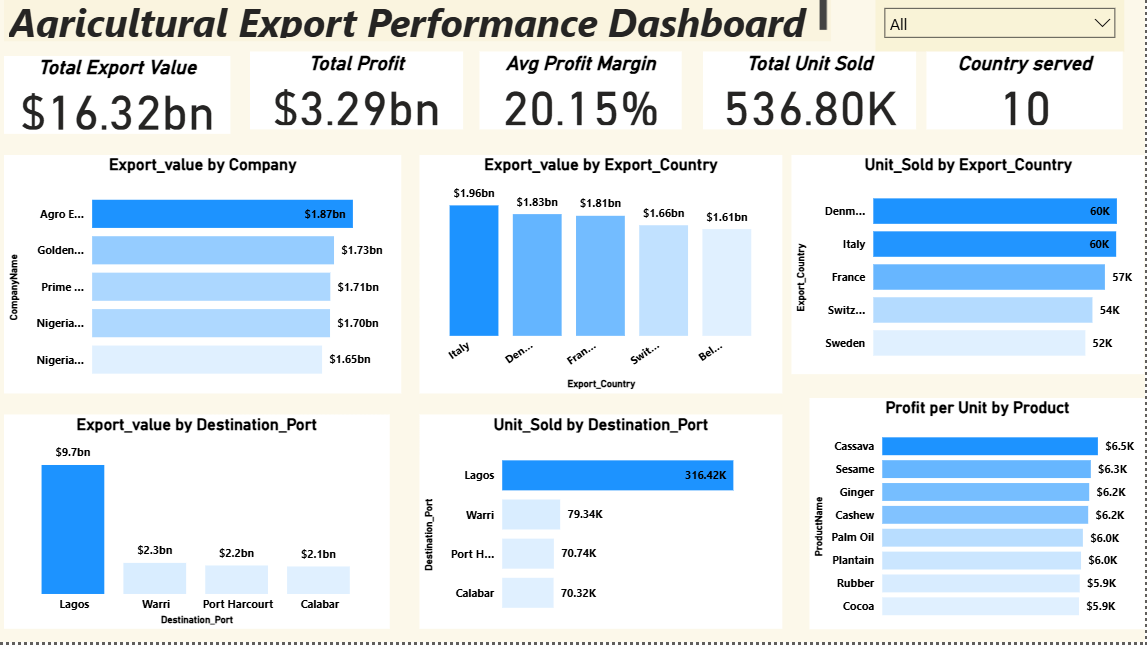

Layout of this report page (visuals, bound fields, positions):
{"tool":"powerbi","page":{"name":"Page 2","canvas":[1280,720],"ordinal":1},"visuals":[{"type":"textbox","box":[20,0,913.3,56.7],"z":0},{"type":"card","title":"Total Export Value","fields":{"Values":["Agricultural_Export_Data.Total_Export_value"]},"box":[19.9,72.9,250.1,86.1],"z":1000},{"type":"card","title":"Total Profit","fields":{"Values":["Agricultural_Export_Data.Total_Profit"]},"box":[291.5,67.9,235.2,86.1],"z":2000},{"type":"card","title":"Avg Profit Margin","fields":{"Values":["Agricultural_Export_Data.Average profit margin"]},"box":[545,67.9,223.6,86.1],"z":3000},{"type":"card","title":"Total Unit Sold","fields":{"Values":["Agricultural_Export_Data.Total_Unit_Sold"]},"box":[791.8,67.9,235.2,86.1],"z":4000},{"type":"card","title":"Country served","fields":{"Values":["Agricultural_Export_Data.Countries_Served"]},"box":[1038.6,67.9,217,86.1],"z":5000},{"type":"clusteredBarChart","title":"Export_value by Company","fields":{"Category":["Agricultural_Export_Data.CompanyName"],"Y":["Agricultural_Export_Data.Total_Export_value"]},"box":[19.9,182.2,439,263.4],"z":6000},{"type":"clusteredColumnChart","title":"Export_value by Export_Country","fields":{"Category":["Agricultural_Export_Data.Export_Country"],"Y":["Agricultural_Export_Data.Total_Export_value"]},"box":[478.7,182.2,400.9,263.4],"z":7000},{"type":"clusteredBarChart","title":"Unit_Sold by Export_Country","fields":{"Category":["Agricultural_Export_Data.Export_Country"],"Y":["Agricultural_Export_Data.Total_Unit_Sold"]},"box":[889.5,182.2,390.9,241.8],"z":8000},{"type":"columnChart","title":"Export_value by Destination_Port","fields":{"Category":["Agricultural_Export_Data.Destination_Port"],"Y":["Agricultural_Export_Data.Total_Export_value"]},"box":[19.9,468.8,425.7,236.9],"z":9000},{"type":"clusteredBarChart","title":"Unit_Sold by Destination_Port","fields":{"Category":["Agricultural_Export_Data.Destination_Port"],"Y":["Agricultural_Export_Data.Total_Unit_Sold"]},"box":[478.7,468.8,400.9,236.9],"z":10000},{"type":"clusteredBarChart","title":"Profit per Unit by Product","fields":{"Y":["Agricultural_Export_Data.Profit per Unit"],"Category":["Agricultural_Export_Data.ProductName"]},"box":[909.4,450.6,371.1,255.1],"z":11000},{"type":"slicer","fields":{"Values":["Agricultural_Export_Data.CompanyName"]},"box":[982.3,9.9,275,58],"z":12000}]}

Visuals, with their boxes in screenshot pixels (x1, y1, x2, y2), scaled from the page's 1280x720 canvas onto the 1147x649 screenshot:
textbox: [left=18, top=0, right=836, bottom=51]
"Total Export Value" card: [left=18, top=66, right=242, bottom=143]
"Total Profit" card: [left=261, top=61, right=472, bottom=139]
"Avg Profit Margin" card: [left=488, top=61, right=689, bottom=139]
"Total Unit Sold" card: [left=710, top=61, right=920, bottom=139]
"Country served" card: [left=931, top=61, right=1125, bottom=139]
"Export_value by Company" clusteredBarChart: [left=18, top=164, right=411, bottom=402]
"Export_value by Export_Country" clusteredColumnChart: [left=429, top=164, right=788, bottom=402]
"Unit_Sold by Export_Country" clusteredBarChart: [left=797, top=164, right=1146, bottom=382]
"Export_value by Destination_Port" columnChart: [left=18, top=423, right=399, bottom=636]
"Unit_Sold by Destination_Port" clusteredBarChart: [left=429, top=423, right=788, bottom=636]
"Profit per Unit by Product" clusteredBarChart: [left=815, top=406, right=1146, bottom=636]
slicer - Agricultural_Export_Data.CompanyName: [left=880, top=9, right=1127, bottom=61]
